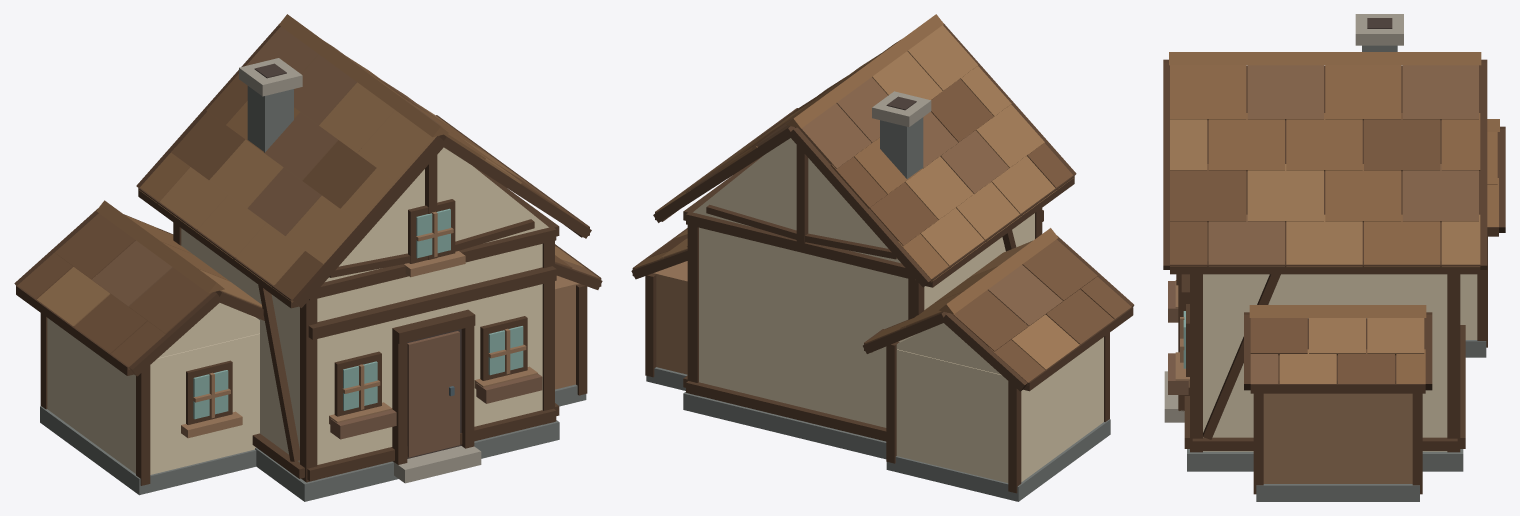
The model's file is ENV_Cottage_B_LOD1.glb.
3 views of the same model, side by side, from view 1: azimuth 30°, elevation 25°; view 2: azimuth 150°, elevation 25°; view 3: azimuth 270°, elevation 25° (orthographic). The views are drawn at different scales.
Visible parts, largest first — view 1: ENV_Cottage_B_LOD1_roof_roofTiles, ENV_Cottage_B_LOD1_shell_plasterIvory, ENV_Cottage_B_LOD1_shell_woodDark, ENV_Cottage_B_LOD1_wing_plasterIvory, ENV_Cottage_B_LOD1_wing_roofTiles, ENV_Cottage_B_LOD1_roof_woodDark, ENV_Cottage_B_LOD1_wing_woodDark, ENV_Cottage_B_LOD1_shell_wood, ENV_Cottage_B_LOD1_foundation_stoneDark, ENV_Cottage_B_LOD1_wing_stoneDark, ENV_Cottage_B_LOD1_shell_glass, ENV_Cottage_B_LOD1_shell_woodLight (+8 smaller); view 2: ENV_Cottage_B_LOD1_shell_plasterIvory, ENV_Cottage_B_LOD1_roof_roofTiles, ENV_Cottage_B_LOD1_wing_plasterIvory, ENV_Cottage_B_LOD1_wing_roofTiles, ENV_Cottage_B_LOD1_shell_woodDark, ENV_Cottage_B_LOD1_wing_woodDark, ENV_Cottage_B_LOD1_roof_woodDark, ENV_Cottage_B_LOD1_foundation_stoneDark, ENV_Cottage_B_LOD1_wing_stoneDark, ENV_Cottage_B_LOD1_shed_woodLight, ENV_Cottage_B_LOD1_occupied_stoneDark, ENV_Cottage_B_LOD1_shed_woodDark (+3 smaller); view 3: ENV_Cottage_B_LOD1_roof_roofTiles, ENV_Cottage_B_LOD1_shell_plasterIvory, ENV_Cottage_B_LOD1_shed_roofTiles, ENV_Cottage_B_LOD1_shed_woodLight, ENV_Cottage_B_LOD1_shell_woodDark, ENV_Cottage_B_LOD1_roof_woodDark, ENV_Cottage_B_LOD1_shed_woodDark, ENV_Cottage_B_LOD1_shed_stoneDark, ENV_Cottage_B_LOD1_foundation_stoneDark, ENV_Cottage_B_LOD1_wing_woodDark, ENV_Cottage_B_LOD1_occupied_stone, ENV_Cottage_B_LOD1_wing_roofTiles (+5 smaller).
Part boxes in pixels (x1,y1,x2,y2): ENV_Cottage_B_LOD1_roof_roofTiles: (138,14,587,302); ENV_Cottage_B_LOD1_shell_plasterIvory: (181,147,548,464); ENV_Cottage_B_LOD1_shell_woodDark: (173,155,559,482); ENV_Cottage_B_LOD1_wing_plasterIvory: (47,303,259,474); ENV_Cottage_B_LOD1_wing_roofTiles: (17,200,262,369); ENV_Cottage_B_LOD1_roof_woodDark: (136,23,591,308); ENV_Cottage_B_LOD1_wing_woodDark: (14,208,264,485); ENV_Cottage_B_LOD1_shell_wood: (407,331,459,457); ENV_Cottage_B_LOD1_foundation_stoneDark: (255,420,559,501); ENV_Cottage_B_LOD1_wing_stoneDark: (40,406,256,495); ENV_Cottage_B_LOD1_shell_glass: (343,208,523,410); ENV_Cottage_B_LOD1_shell_woodLight: (329,211,537,424); ENV_Cottage_B_LOD1_shell_plasterIvory: (693,138,1034,427); ENV_Cottage_B_LOD1_roof_roofTiles: (655,14,1074,282); ENV_Cottage_B_LOD1_wing_plasterIvory: (896,323,1103,482); ENV_Cottage_B_LOD1_wing_roofTiles: (864,228,1131,385); ENV_Cottage_B_LOD1_shell_woodDark: (683,145,1043,441); ENV_Cottage_B_LOD1_wing_woodDark: (863,235,1134,493); ENV_Cottage_B_LOD1_roof_woodDark: (653,21,1076,287); ENV_Cottage_B_LOD1_foundation_stoneDark: (683,392,886,459); ENV_Cottage_B_LOD1_wing_stoneDark: (886,419,1110,501); ENV_Cottage_B_LOD1_shed_woodLight: (652,261,687,374); ENV_Cottage_B_LOD1_occupied_stoneDark: (880,117,923,178); ENV_Cottage_B_LOD1_shed_woodDark: (631,228,687,377); ENV_Cottage_B_LOD1_roof_roofTiles: (1169,52,1481,267); ENV_Cottage_B_LOD1_shell_plasterIvory: (1203,274,1447,451); ENV_Cottage_B_LOD1_shed_roofTiles: (1249,305,1426,383); ENV_Cottage_B_LOD1_shed_woodLight: (1263,393,1412,483); ENV_Cottage_B_LOD1_shell_woodDark: (1176,274,1465,452); ENV_Cottage_B_LOD1_roof_woodDark: (1163,59,1487,274); ENV_Cottage_B_LOD1_shed_woodDark: (1244,312,1432,494); ENV_Cottage_B_LOD1_shed_stoneDark: (1256,484,1419,501); ENV_Cottage_B_LOD1_foundation_stoneDark: (1187,449,1463,471); ENV_Cottage_B_LOD1_wing_woodDark: (1477,126,1505,347); ENV_Cottage_B_LOD1_occupied_stone: (1355,14,1403,45); ENV_Cottage_B_LOD1_wing_roofTiles: (1487,119,1499,226).
Size of the model in its own units: 7.18 by 5.2 by 4.52.
